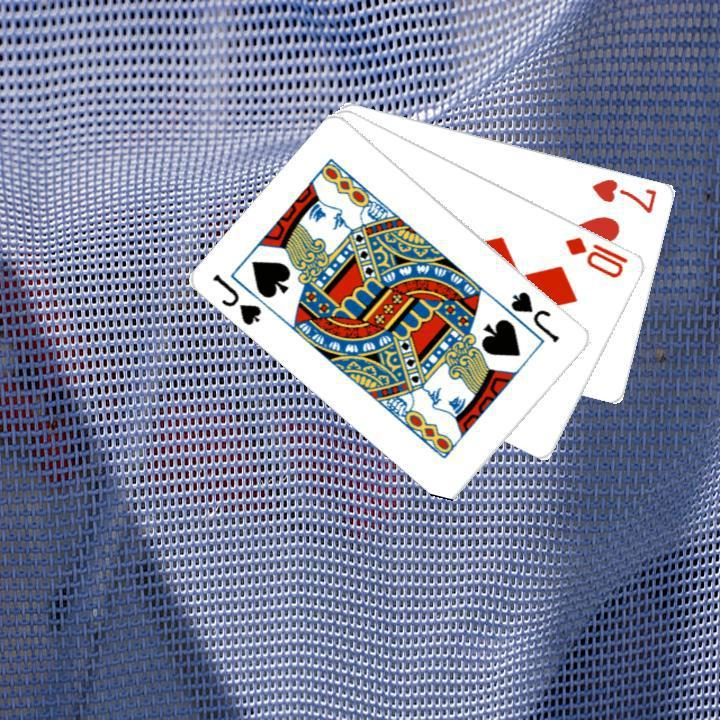10: (561, 232, 631, 280)
7: (588, 174, 659, 215)
J: (208, 269, 265, 328), (506, 286, 562, 345)
